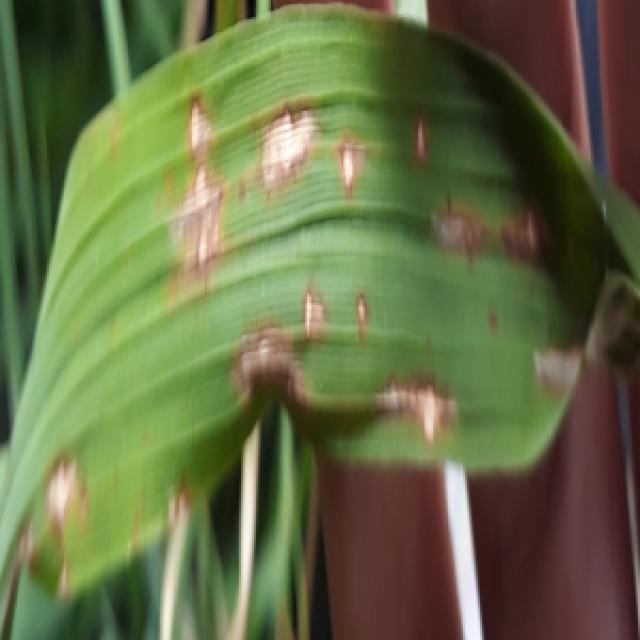Rice: (328, 367, 465, 448), (236, 96, 331, 199), (163, 166, 236, 279), (20, 452, 104, 534), (412, 189, 497, 270), (496, 193, 566, 274), (321, 123, 374, 208), (278, 281, 338, 350), (165, 92, 215, 156), (398, 113, 448, 169), (341, 278, 380, 334)
